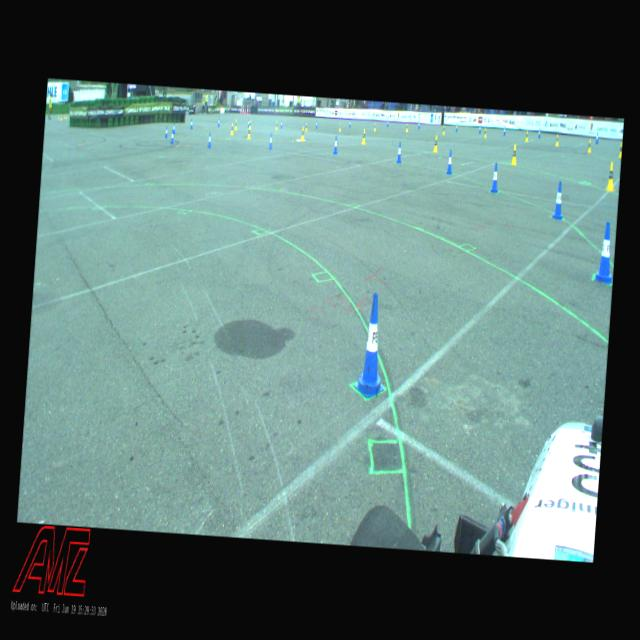blue_cone: (353, 292, 391, 398), (594, 220, 616, 284), (551, 180, 564, 220), (490, 163, 500, 192), (446, 150, 454, 173), (396, 142, 402, 162), (333, 134, 338, 154), (268, 132, 273, 149), (207, 132, 212, 148), (170, 129, 174, 143), (164, 126, 168, 138), (595, 132, 599, 144), (502, 126, 506, 135), (172, 123, 175, 134), (190, 118, 193, 129), (478, 124, 481, 133), (217, 118, 220, 126), (538, 128, 540, 138)
yellow_cone: (606, 162, 616, 190), (510, 144, 518, 164), (432, 134, 438, 152), (361, 128, 366, 144), (300, 126, 304, 142), (618, 142, 622, 158), (588, 138, 592, 152), (247, 125, 251, 138), (230, 123, 233, 135), (555, 134, 558, 146), (235, 119, 238, 130), (525, 130, 528, 141), (248, 120, 252, 128), (275, 120, 278, 130), (338, 122, 341, 132), (405, 122, 408, 132), (373, 123, 376, 131), (484, 127, 486, 137), (442, 125, 444, 134)
